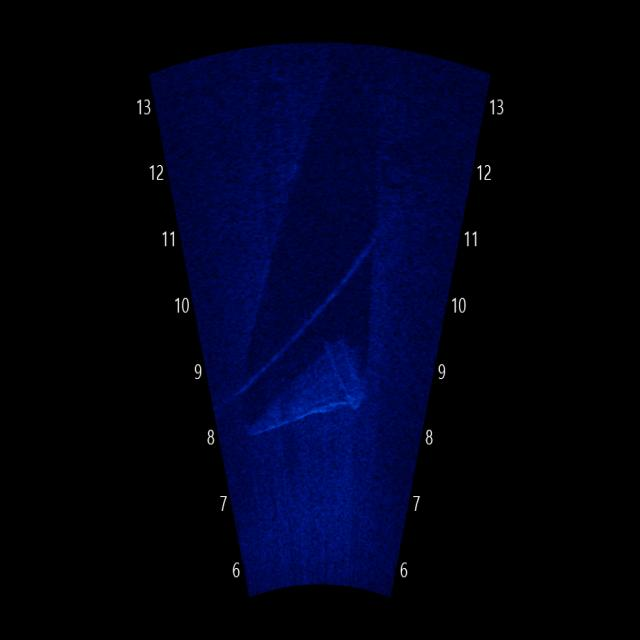triangle: (237, 330, 381, 444)
